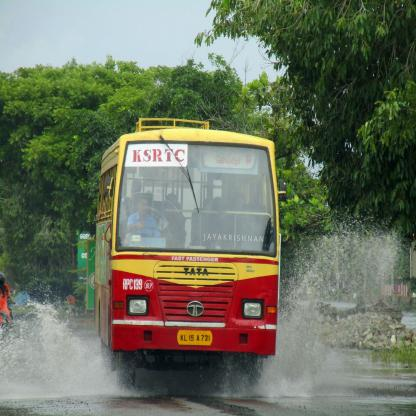bus: (54, 83, 161, 273)
